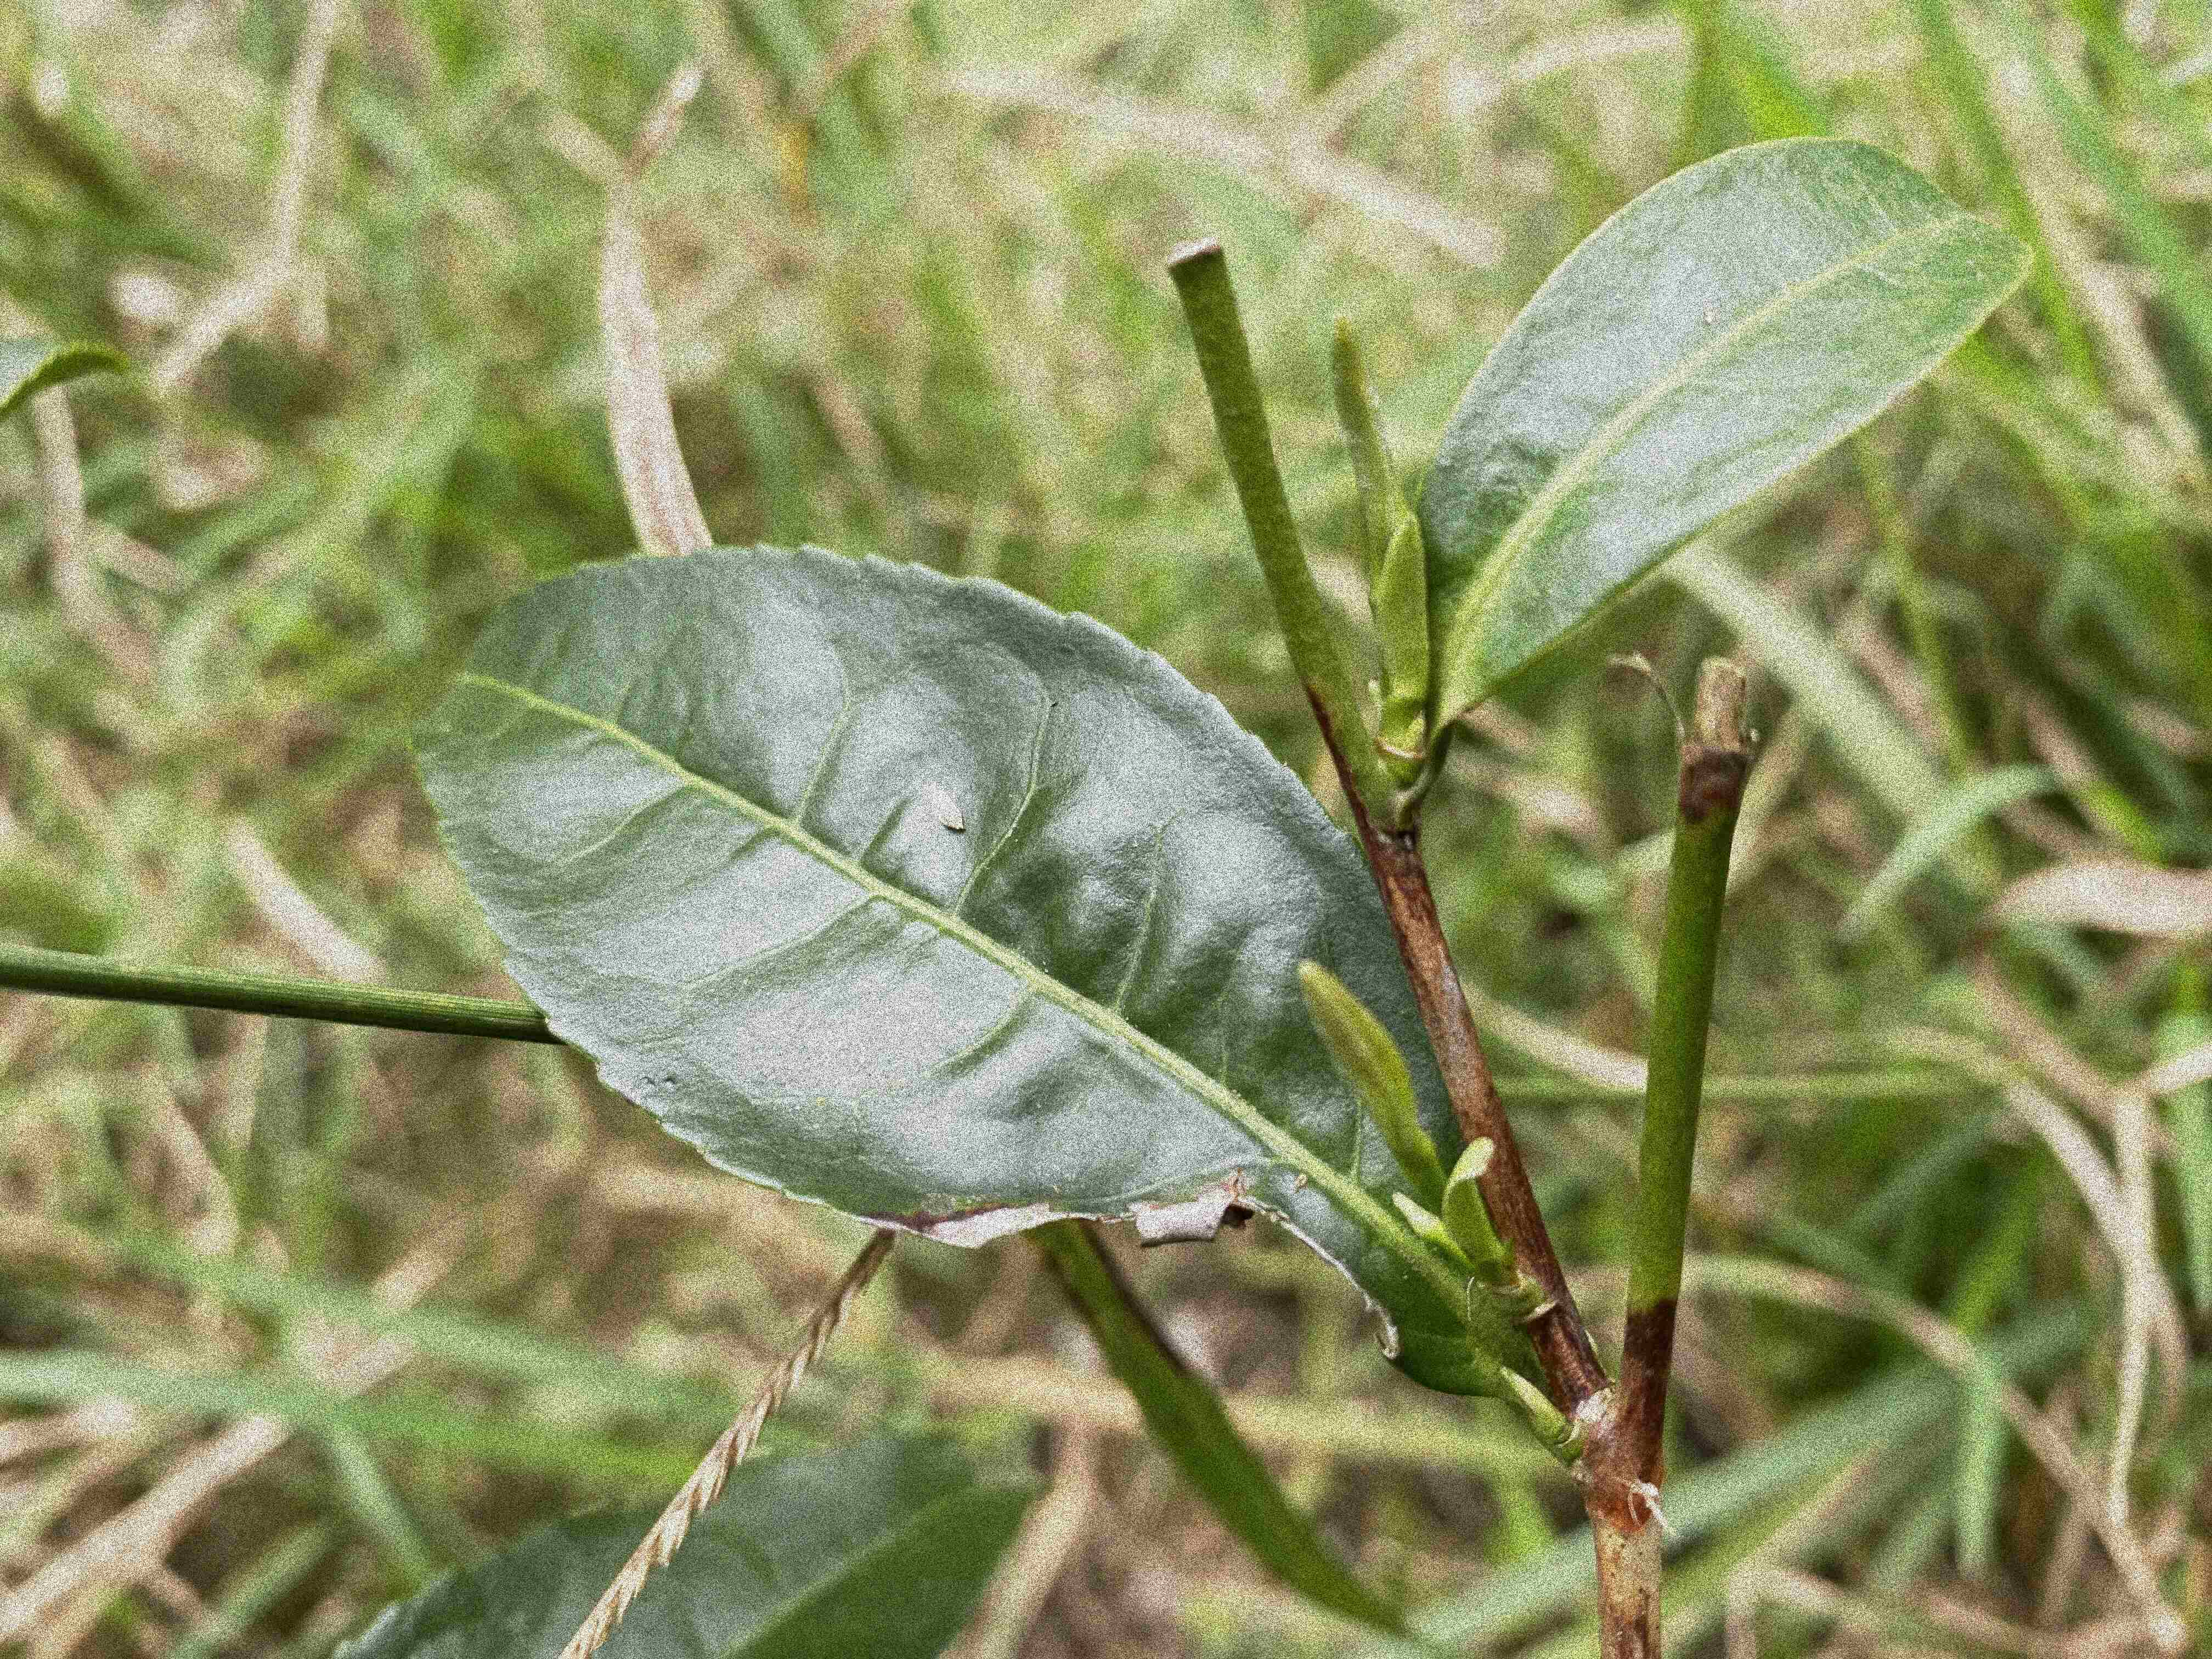chihuo_low: (411, 540, 1531, 1403)
healthy: (1418, 139, 2031, 720)
